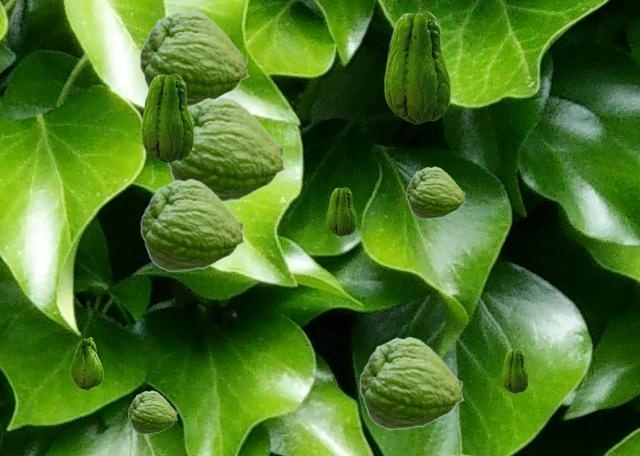sayote: (166, 96, 286, 203), (139, 9, 249, 105), (140, 178, 245, 271), (359, 336, 464, 429), (384, 11, 450, 123), (141, 73, 193, 162), (406, 166, 465, 218), (128, 390, 177, 433), (70, 337, 102, 389), (327, 187, 355, 235), (502, 349, 527, 392)
